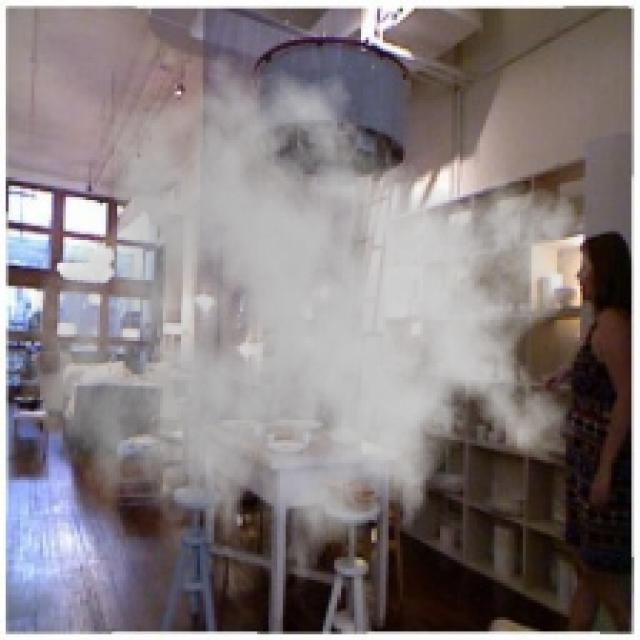smoke: (29, 40, 594, 609)
